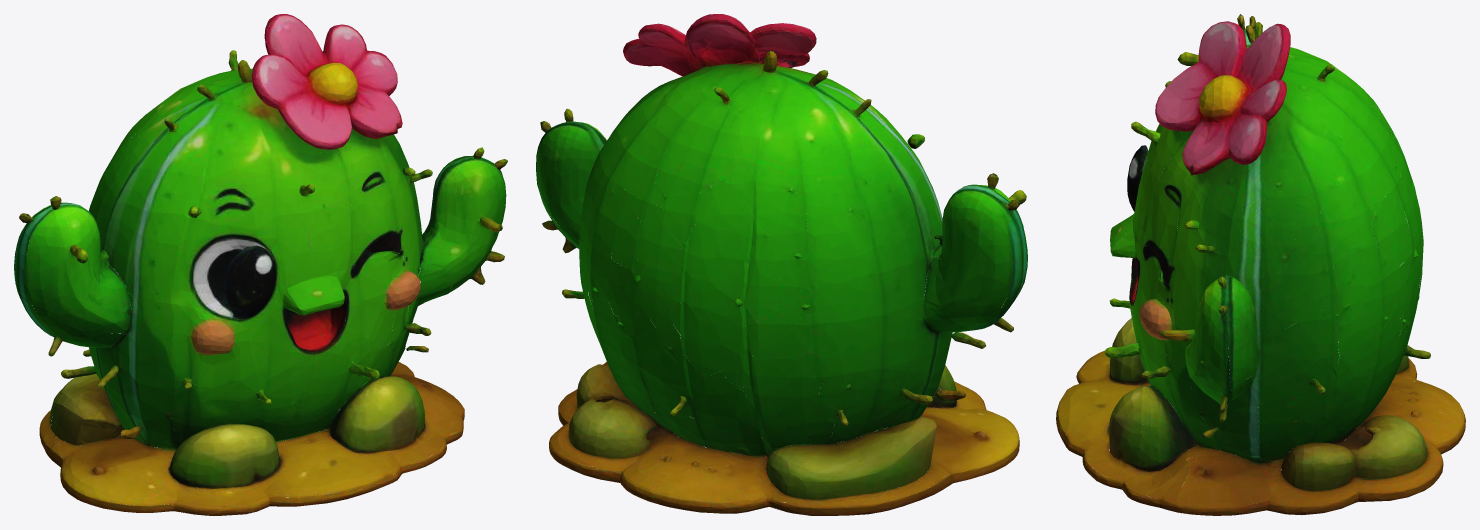
File: char-Cacty.glb
3 renders of one model, left to right at view 1: azimuth 30°, elevation 25°; view 2: azimuth 150°, elevation 25°; view 3: azimuth 270°, elevation 25°, orthographic. The views are drawn at different scales.
Parts seen in each view (by area): view 1: geometry_0.003; view 2: geometry_0.003; view 3: geometry_0.003.
Part boxes in pixels (x1,y1,x2,y2): geometry_0.003: (14, 14, 507, 515); geometry_0.003: (536, 14, 1027, 515); geometry_0.003: (1056, 14, 1465, 515).
Size of the model in its own units: 0.9994 by 0.8203 by 0.7087.
Materials: 1 (1 with a texture image).
